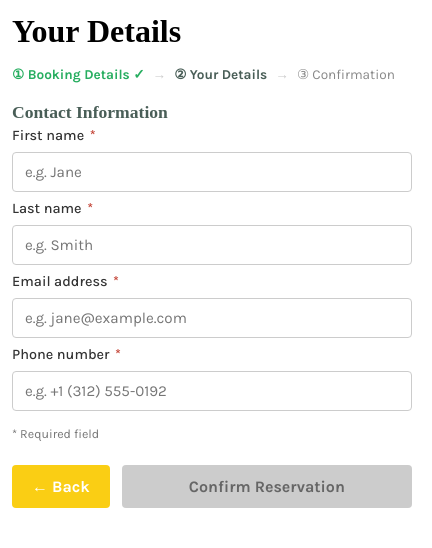
Test: shows error when first name is too short
This screenshot has width=432, height=548.
Type "A" into the field labelled "First name".
click(212, 172); type("A")  # box [12,152,412,192]
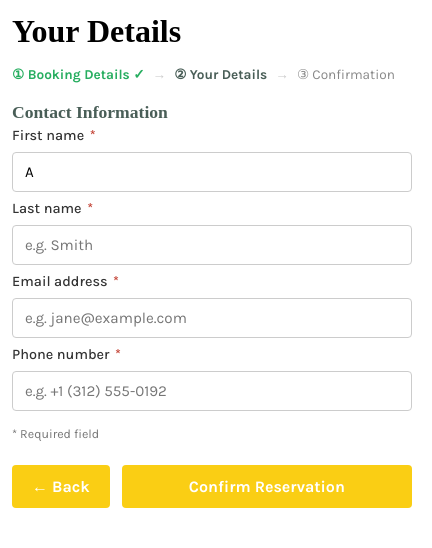
Leave the field labelled "First name", box [12,152,412,192]
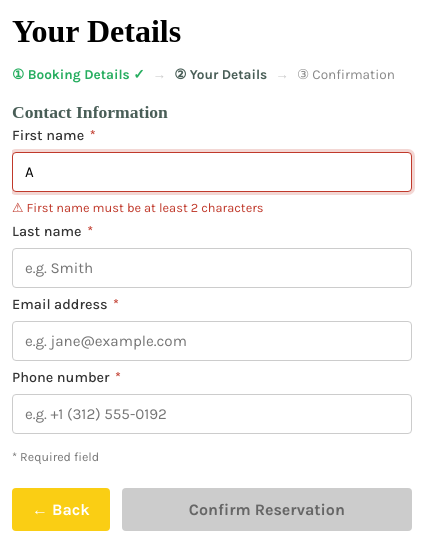
Check: the message shows "at least 2 characters", box [26,200,264,215]
